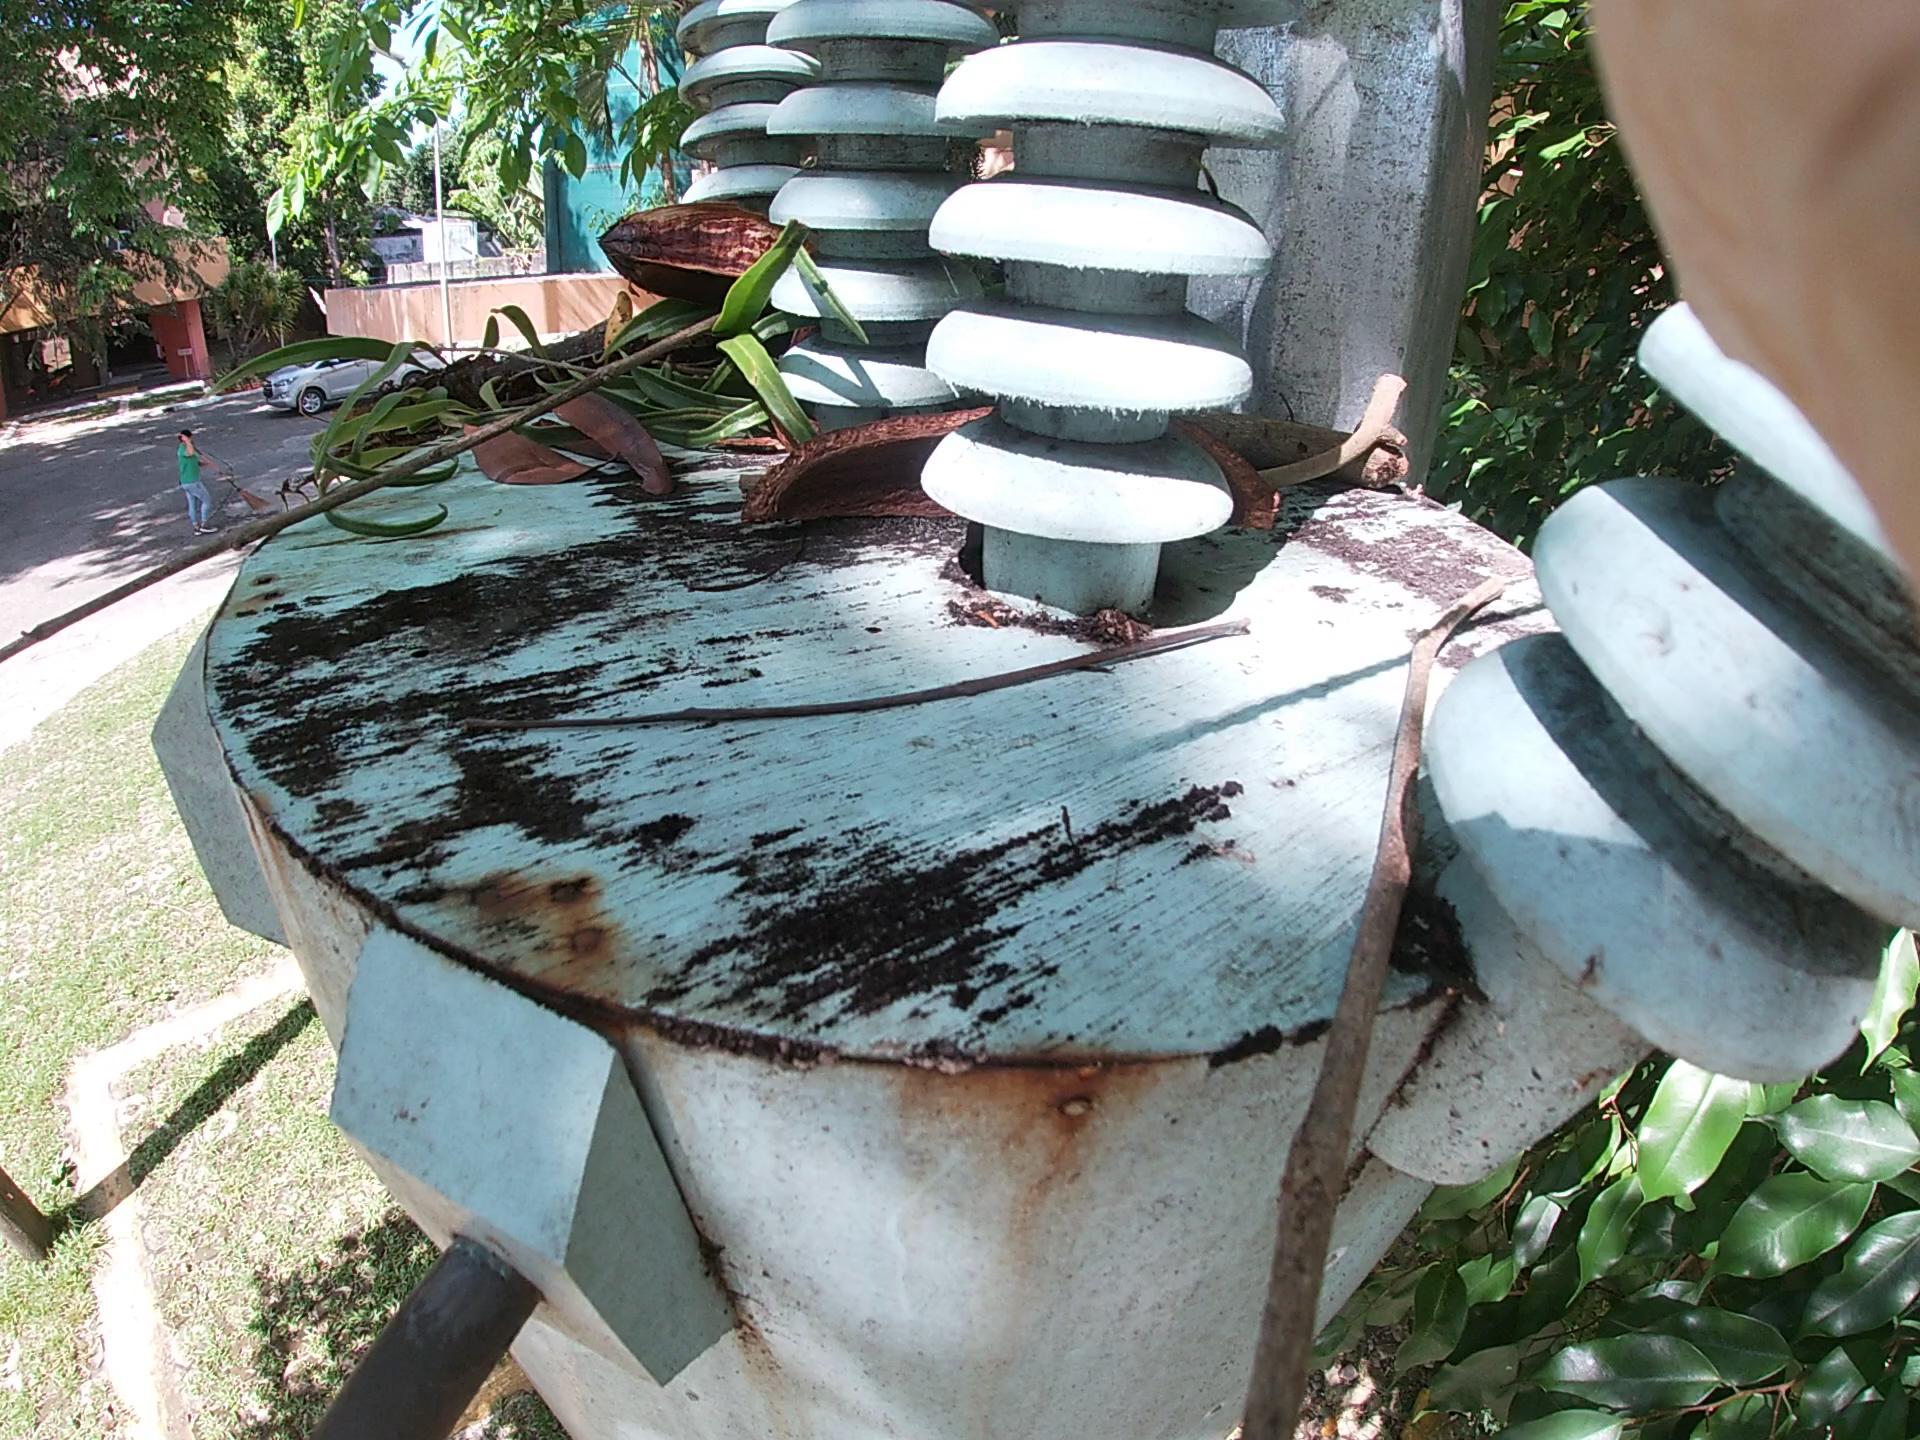branch with leaves: (274, 204, 757, 501)
leaf: (481, 374, 641, 507)
mahogany fruit: (705, 383, 1299, 650), (505, 195, 850, 349)
tree branch: (11, 290, 763, 646), (1277, 601, 1398, 1376), (553, 607, 1274, 672), (1241, 355, 1459, 514)
